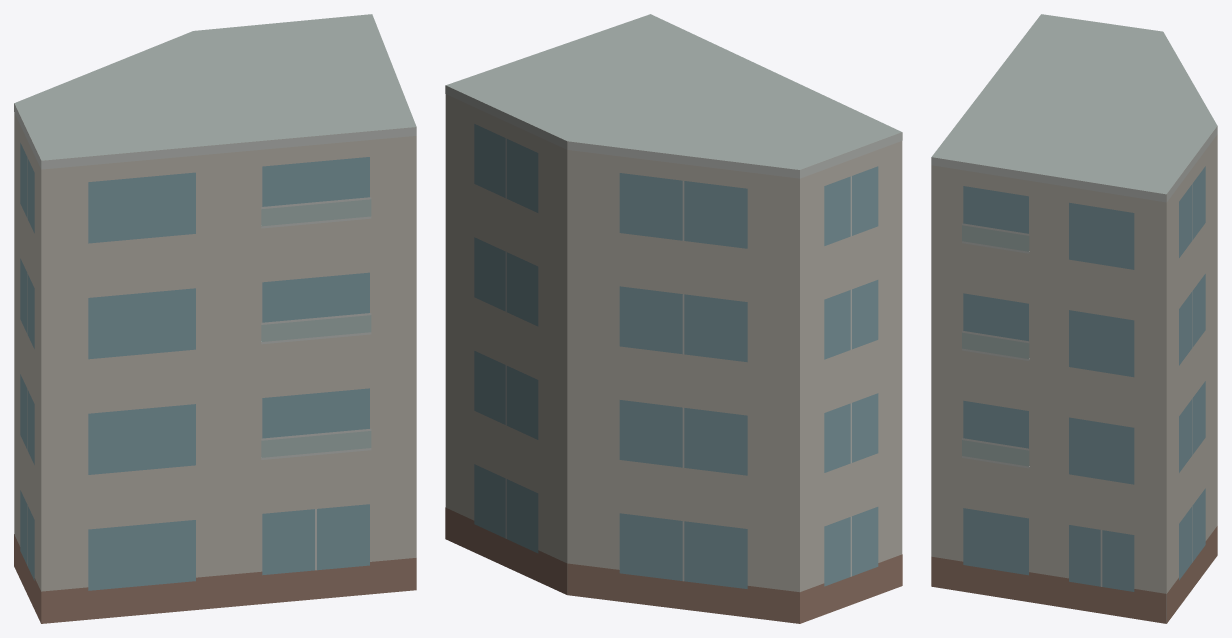
The model's file is survey-upis-32497232.glb.
The picture shows the model from 3 angles, left to right: view 1: azimuth 30°, elevation 25°; view 2: azimuth 150°, elevation 25°; view 3: azimuth 270°, elevation 25°; orthographic projection. The views are drawn at different scales.
Visible parts, largest first — view 1: survey-upis-32497232.tmp; view 2: survey-upis-32497232.tmp; view 3: survey-upis-32497232.tmp.
Part boxes in pixels (x1,y1,x2,y2): survey-upis-32497232.tmp: (14, 14, 416, 623); survey-upis-32497232.tmp: (445, 14, 902, 623); survey-upis-32497232.tmp: (931, 14, 1217, 623).
Bounding box in the file's own units: 11.54 × 12.8 × 7.74.
